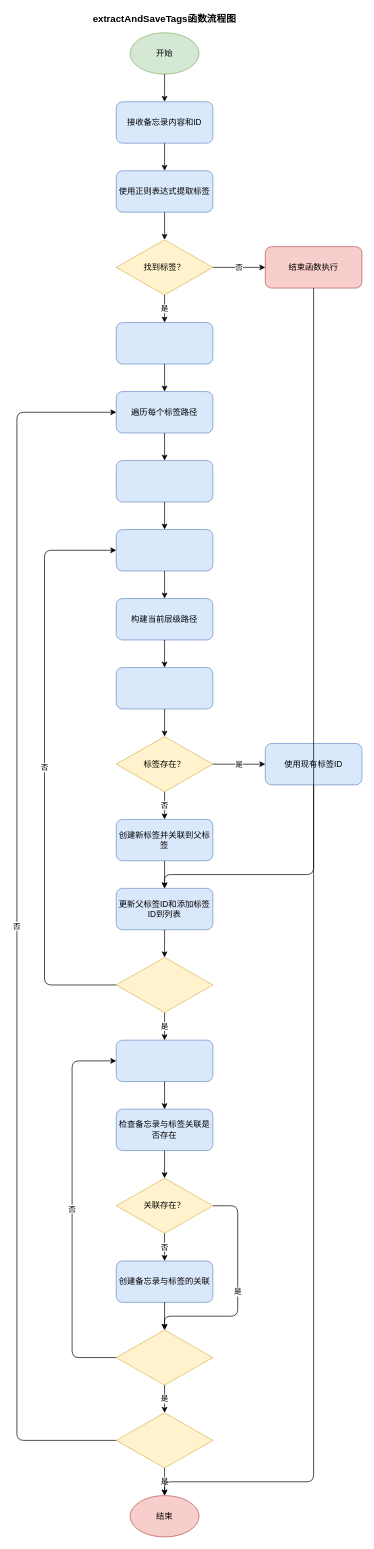
The diagram is 374 pixels wide and 1549 high, and some of its shapes have lost their labels. The shapes that lost their labels are listed below. From the top down, each one's box as (x1, y1, x2, y2) in pixels, then its label:
(116, 322, 213, 364): 去重标签并移除#前缀
(116, 460, 213, 502): 分割嵌套路径
(116, 529, 213, 571): 遍历路径的每个部分
(116, 667, 213, 709): 检查标签是否存在
(116, 957, 213, 1013): 路径部分遍历完成？
(116, 1039, 213, 1082): 遍历标签ID列表
(116, 1329, 213, 1385): 标签ID列表遍历完成？
(116, 1412, 213, 1468): 标签路径遍历完成？
